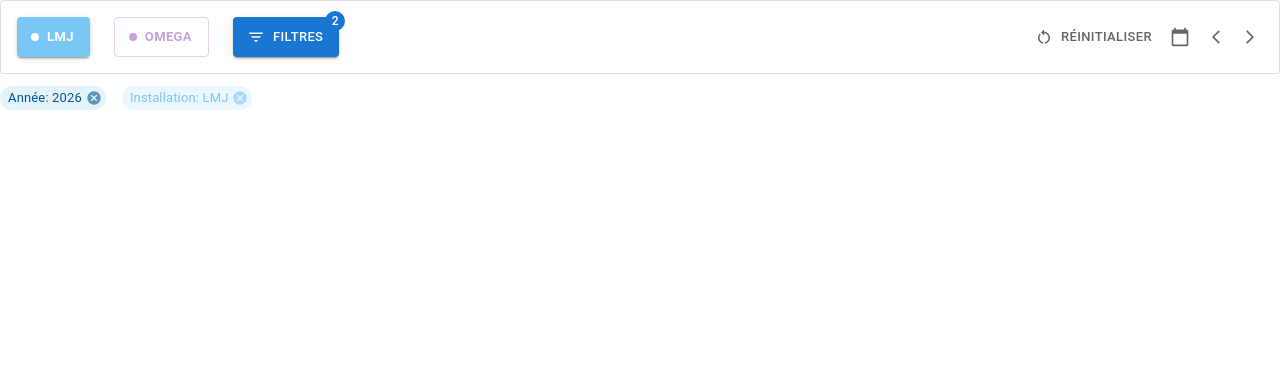
PlanningToolbar › Filters › should open filters popover on click
The image size is (1280, 390).
Click the button "Filtres" at (286, 37), box [233,17,339,57]
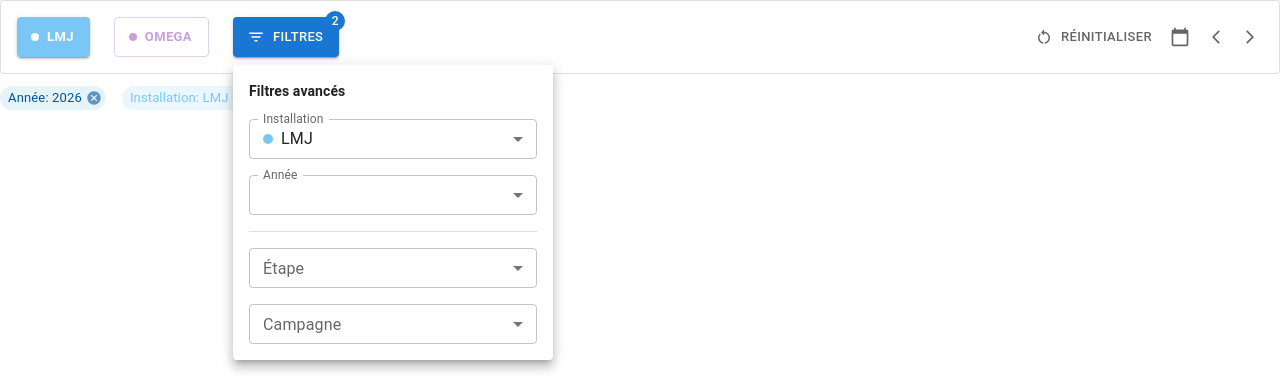
Expected: the heading "Filtres avancés" is shown, [249,83,345,99]
